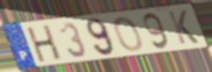3: (58, 21, 88, 60)
9: (85, 17, 116, 57), (141, 11, 170, 51)
H: (26, 23, 64, 64)
K: (166, 9, 201, 46)
O: (112, 16, 144, 53)
